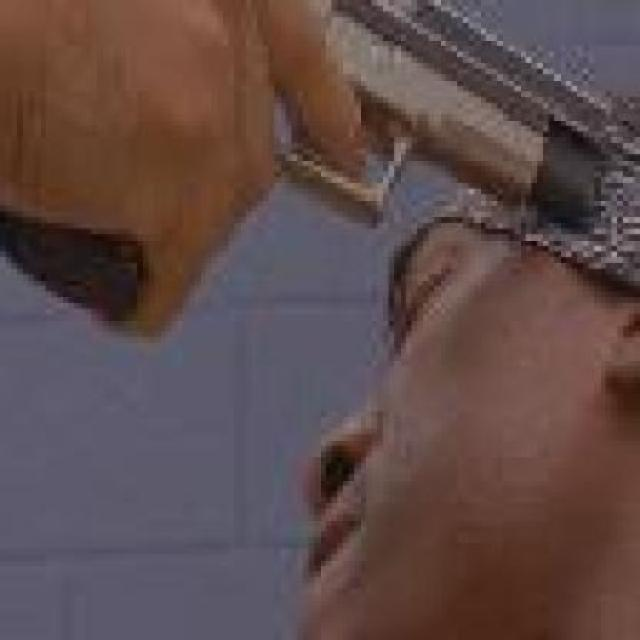rifle: (324, 0, 638, 291)
